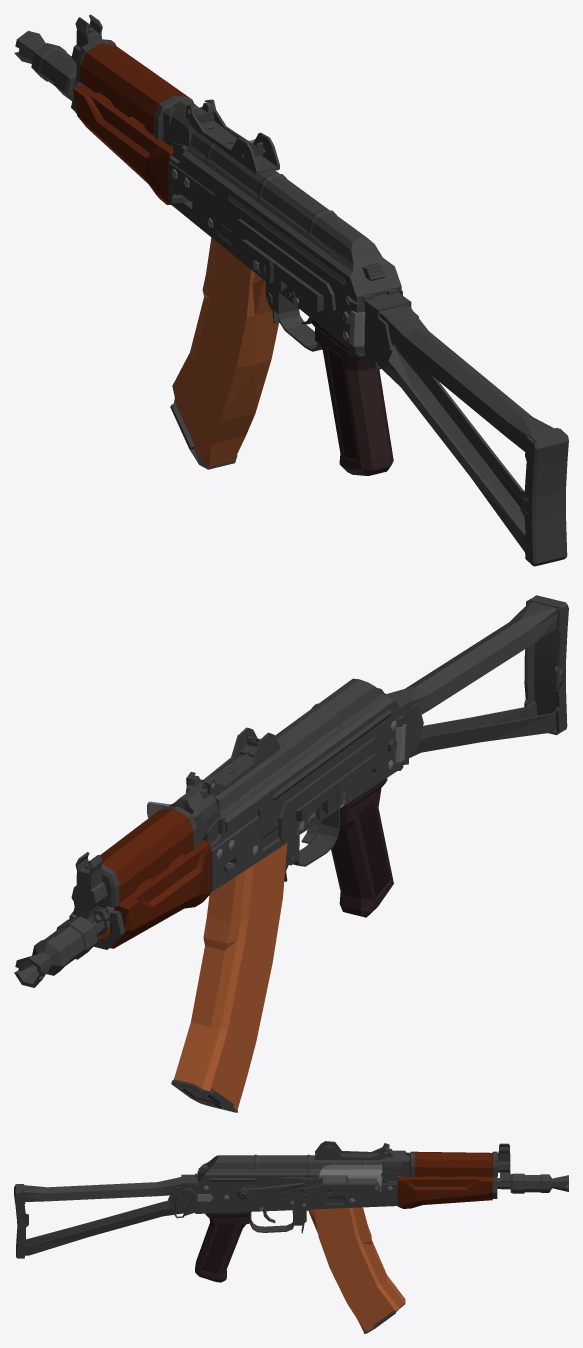
The model's file is low-poly_aks-74un.glb.
3 views of the same model, one above another, from view 1: azimuth 30°, elevation 25°; view 2: azimuth 150°, elevation 25°; view 3: azimuth 270°, elevation 25° (orthographic). The views are drawn at different scales.
Visible parts, largest first — view 1: folding_stock_17, magazine_6, dust_cover_12, receiver_16, grip_18, handguard_lower_9, handguard_upper_8, muzzle_boost_20, gas_tube_11; view 2: magazine_6, folding_stock_17, receiver_16, dust_cover_12, grip_18, handguard_lower_9, handguard_upper_8, muzzle_boost_20, gas_tube_11, lower_handguard_retainer_19; view 3: receiver_16, magazine_6, folding_stock_17, dust_cover_12, handguard_lower_9, grip_18, handguard_upper_8, safety_selector_2, bolt_carrier_13, muzzle_boost_20, gas_tube_11.
Boxes of the visible parts, x1,y1,x2,y2 form: folding_stock_17: (349, 292, 568, 566); magazine_6: (170, 237, 278, 469); dust_cover_12: (182, 99, 401, 302); receiver_16: (71, 14, 402, 357); grip_18: (311, 319, 393, 475); handguard_lower_9: (73, 84, 172, 204); handguard_upper_8: (80, 43, 187, 135); muzzle_boost_20: (14, 30, 76, 100); gas_tube_11: (76, 38, 193, 139); magazine_6: (171, 843, 287, 1112); folding_stock_17: (385, 595, 568, 764); receiver_16: (69, 720, 396, 934); dust_cover_12: (186, 678, 401, 831); grip_18: (331, 778, 393, 917); handguard_lower_9: (74, 840, 210, 948); handguard_upper_8: (100, 808, 193, 902); muzzle_boost_20: (14, 916, 98, 987); gas_tube_11: (97, 806, 197, 908); lower_handguard_retainer_19: (74, 904, 125, 949); receiver_16: (195, 1143, 513, 1232); magazine_6: (306, 1207, 405, 1333); folding_stock_17: (14, 1174, 195, 1258); dust_cover_12: (197, 1141, 389, 1185); handguard_lower_9: (397, 1175, 493, 1208); grip_18: (195, 1212, 249, 1282); handguard_upper_8: (415, 1151, 492, 1176); safety_selector_2: (235, 1177, 323, 1201); bolt_carrier_13: (319, 1164, 382, 1192); muzzle_boost_20: (510, 1173, 568, 1193); gas_tube_11: (406, 1151, 499, 1177).
Size of the model in its own units: 0.075 by 0.2775 by 0.7486.
